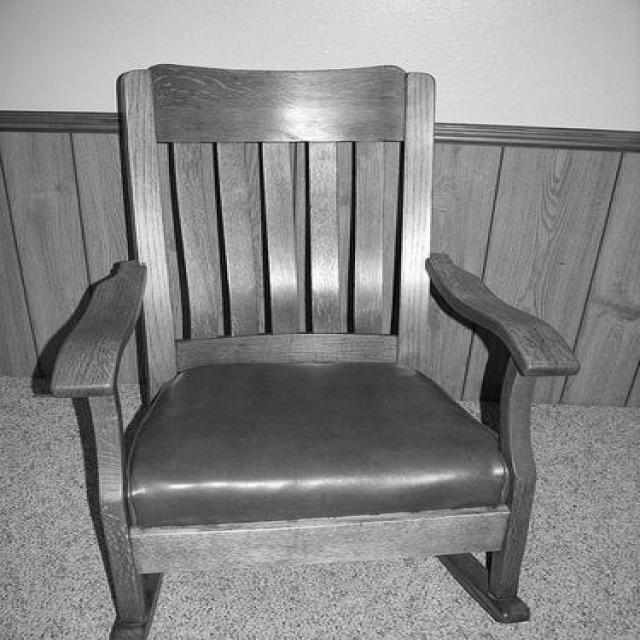chair: (40, 60, 582, 638)
